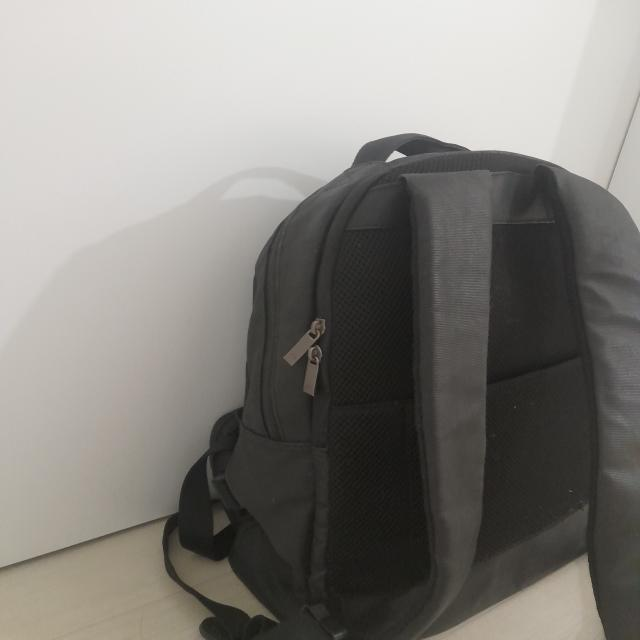backpack: (161, 133, 640, 640)
